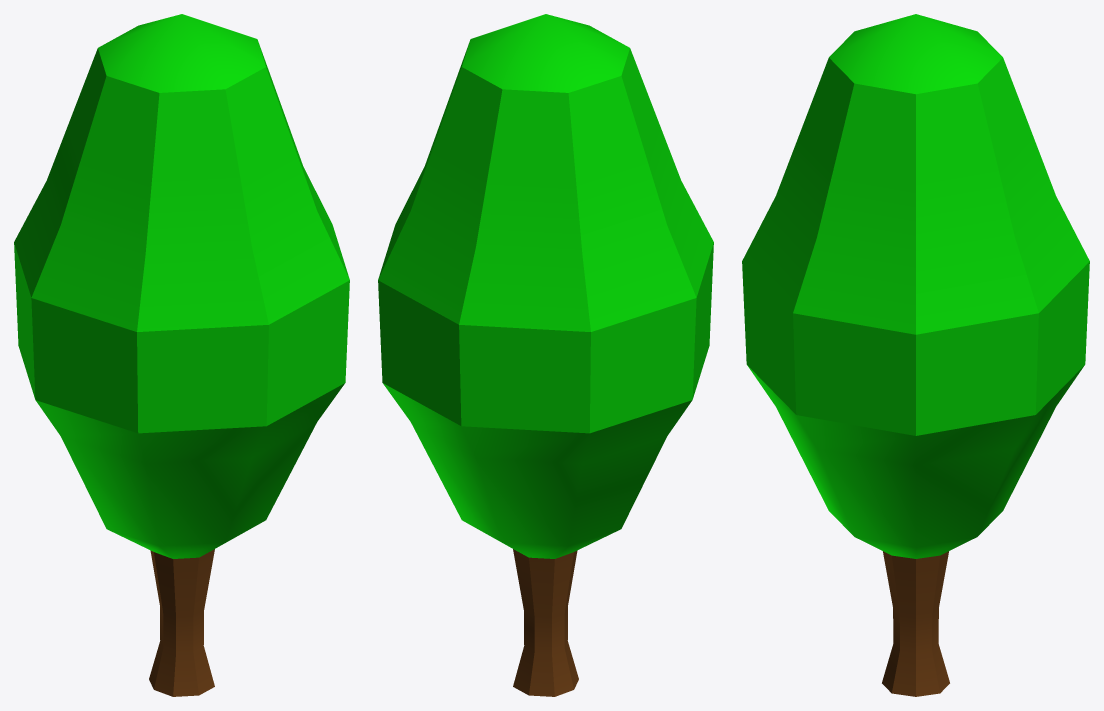
Rendered from Arbre_C.FBX.
3 renders of one model, left to right at view 1: azimuth 30°, elevation 25°; view 2: azimuth 150°, elevation 25°; view 3: azimuth 270°, elevation 25°, orthographic.
Visible parts, largest first — view 1: Arbre_C; view 2: Arbre_C; view 3: Arbre_C.
Part boxes in pixels (x1,y1,x2,y2): Arbre_C: (14,14,349,696); Arbre_C: (378,14,713,696); Arbre_C: (742,14,1089,696).
Size of the model in its own units: 133 by 282 by 133.
